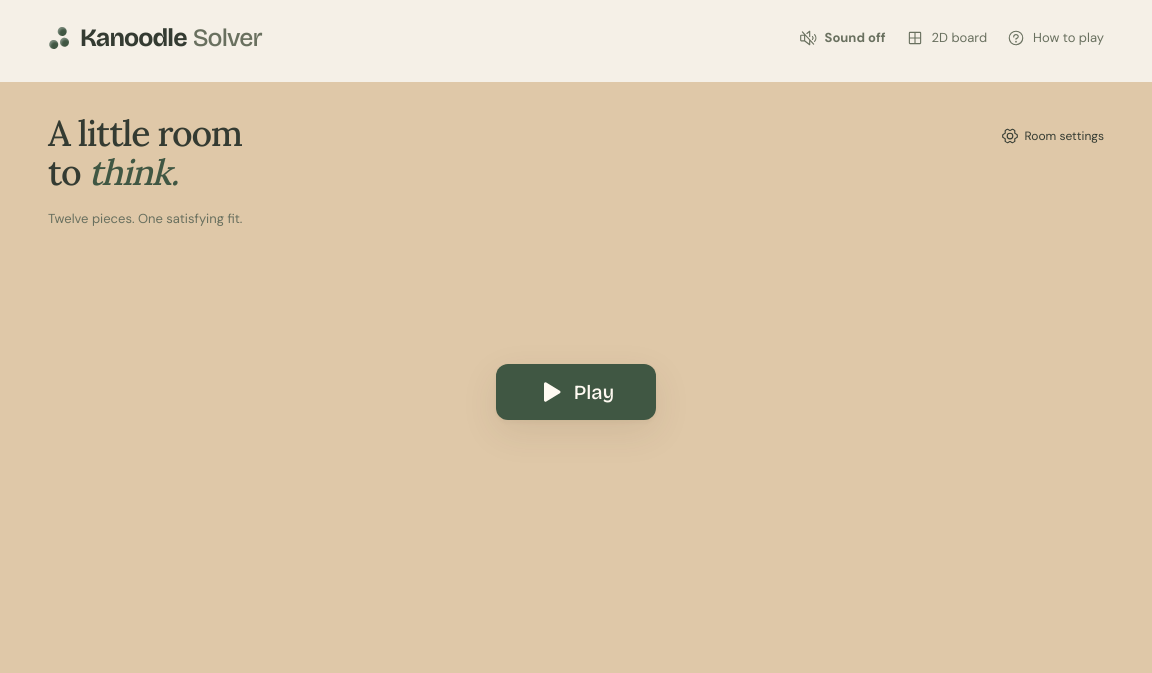
Test: AccessibleBoard › Turn piece right updates the nearby orientation summary
Click the button "2D board".
click(946, 38)  # box [906,16,987,60]
(page scrolled)
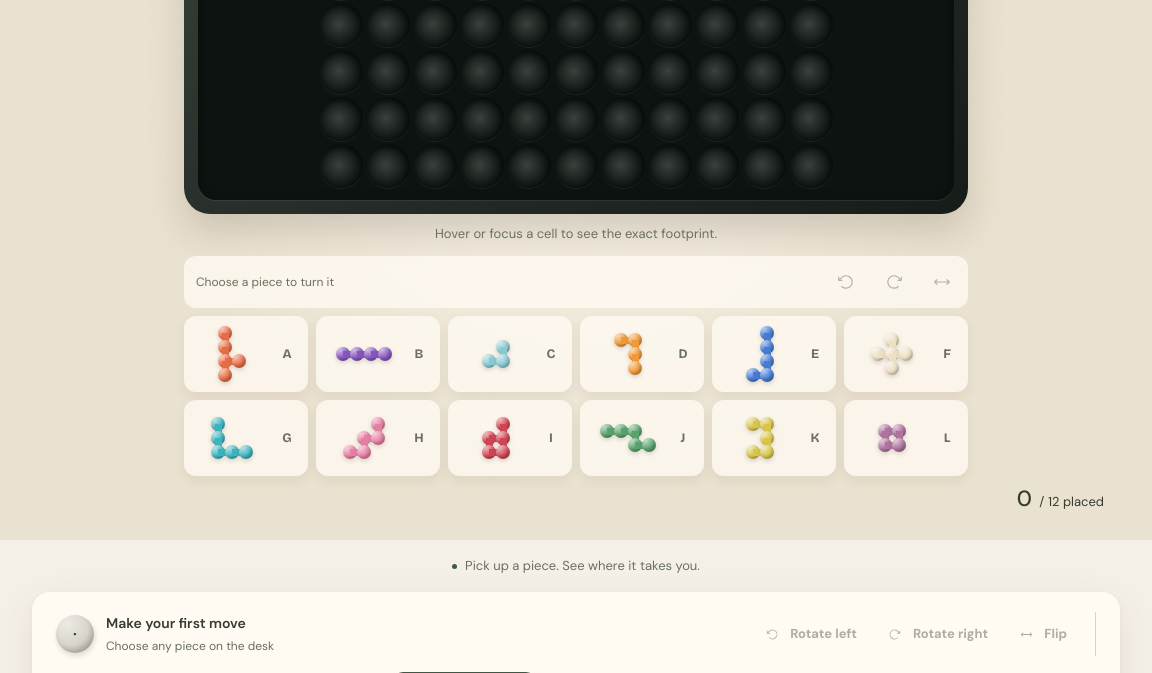
Click the button named "Select piece C".
click(510, 354)  # box [448,316,572,392]
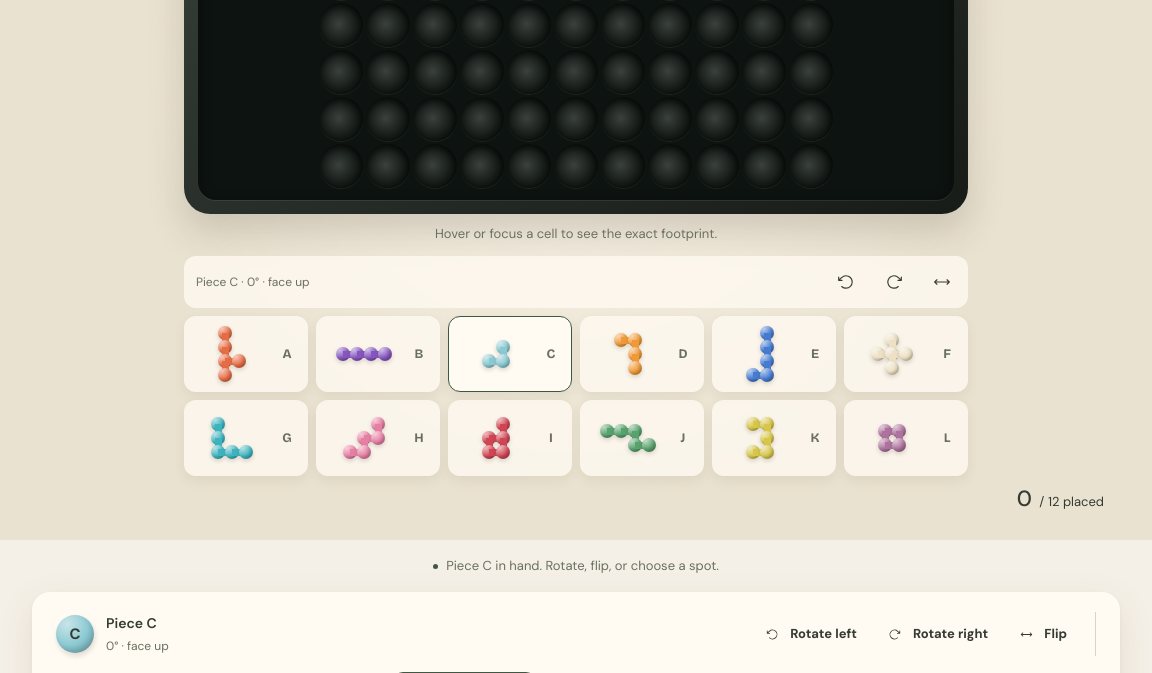
Click the button named "Turn piece right".
click(894, 282)  # box [872,260,916,304]
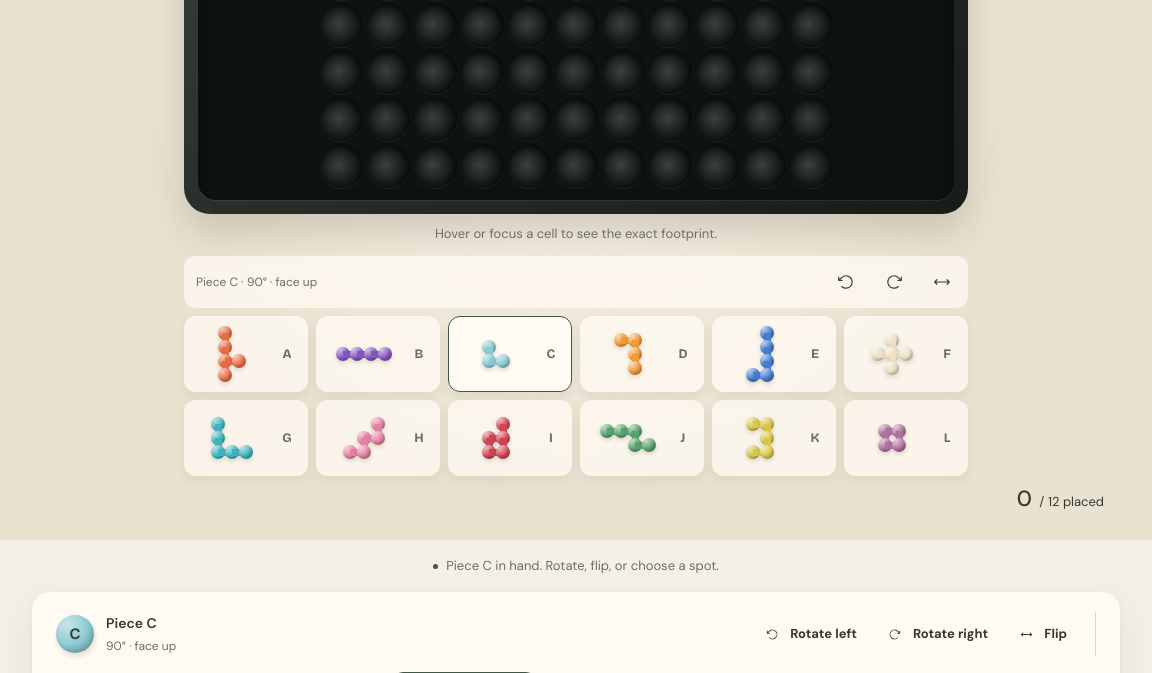
Result: the text "Piece C · 90° · face up" is shown at [196,273,317,292]
